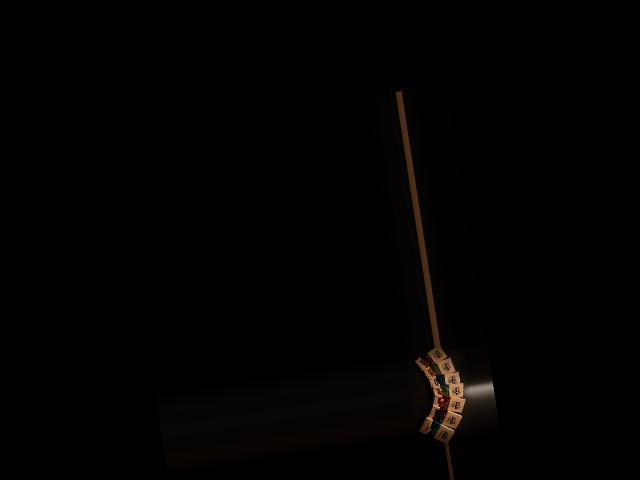chocolate: (414, 412, 457, 446)
